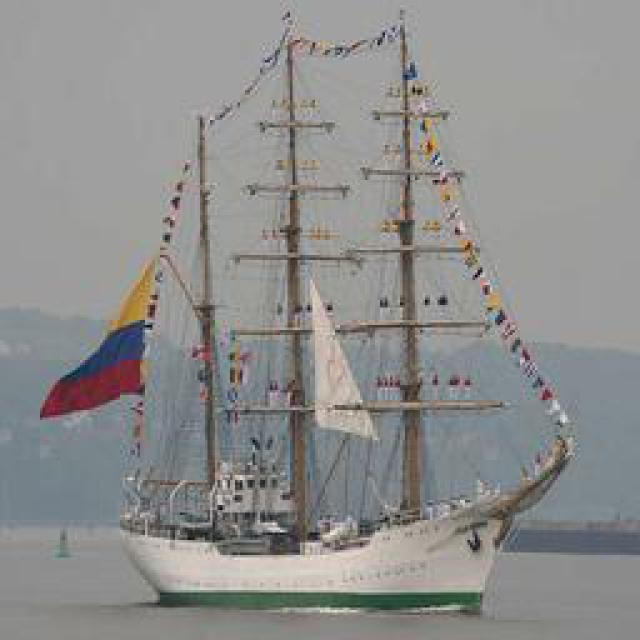Ship: (44, 10, 569, 615)
